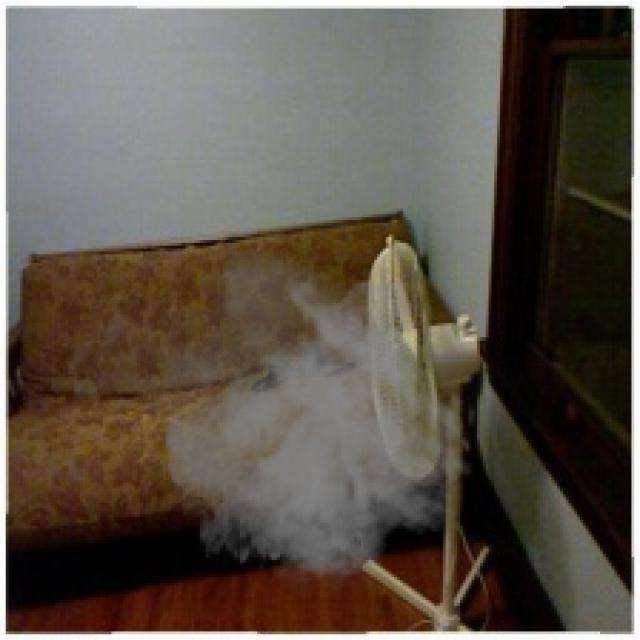Smoke: (54, 237, 474, 603)
